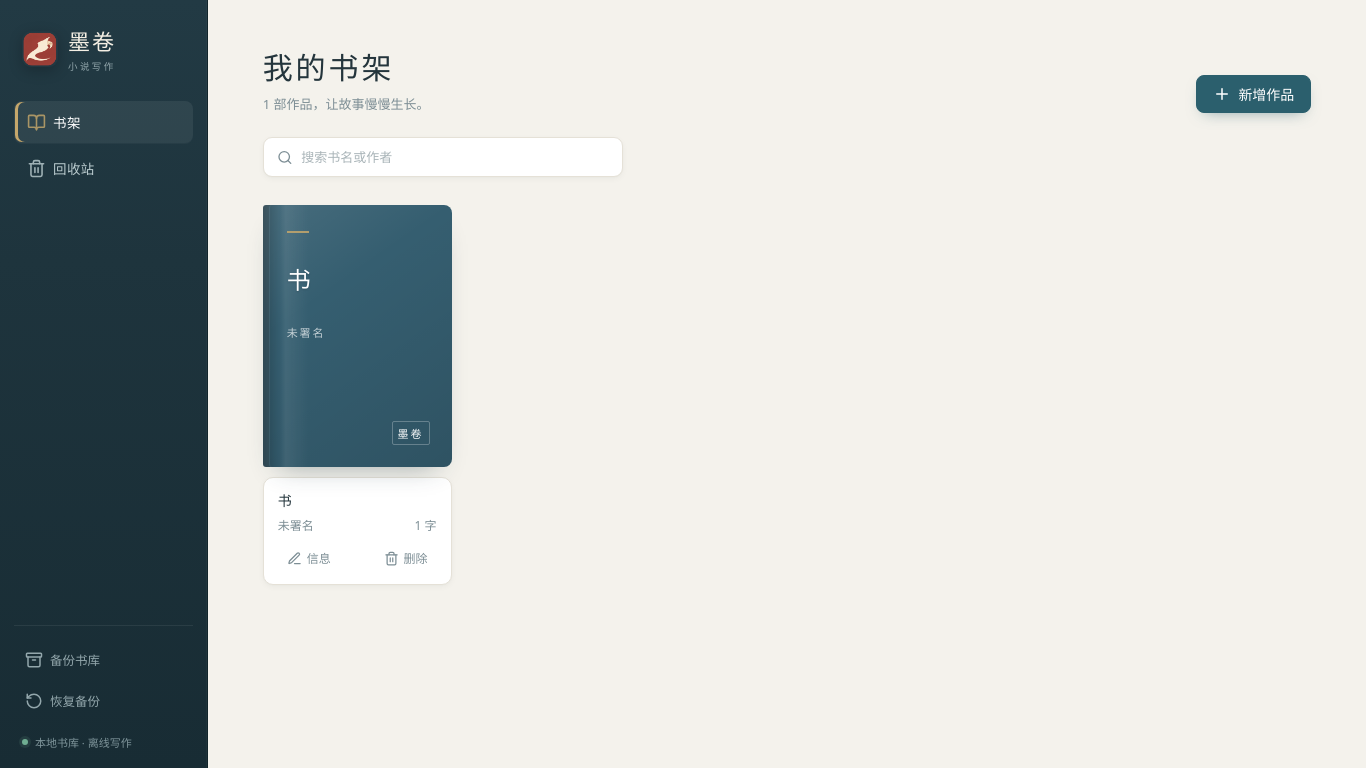
Test: retains manuscript and does not open task actions after failed save
Click the button with aria-label "打开 书" at (357, 336), box 263,205 -> 452,467
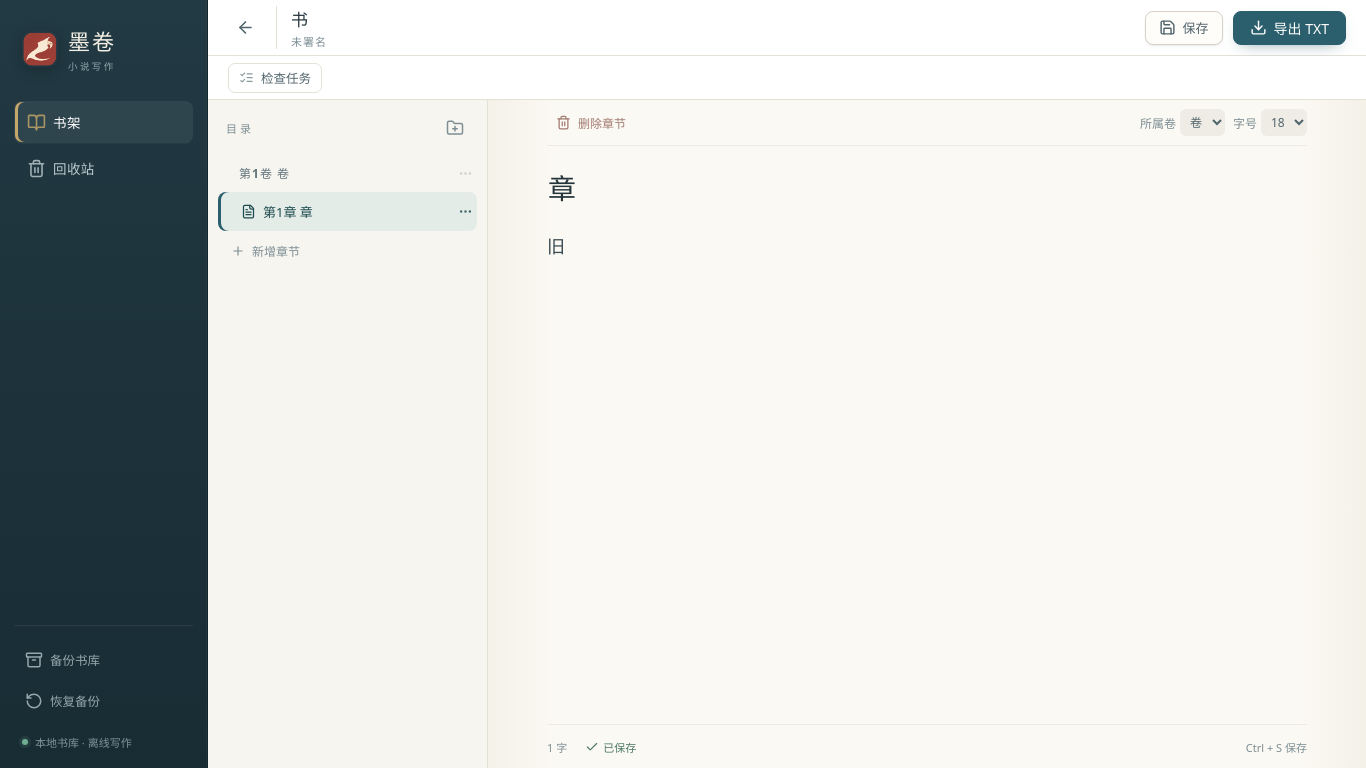
Replace the text in the text box named "章节正文" with "新" at (927, 472), box 547,220 -> 1307,724
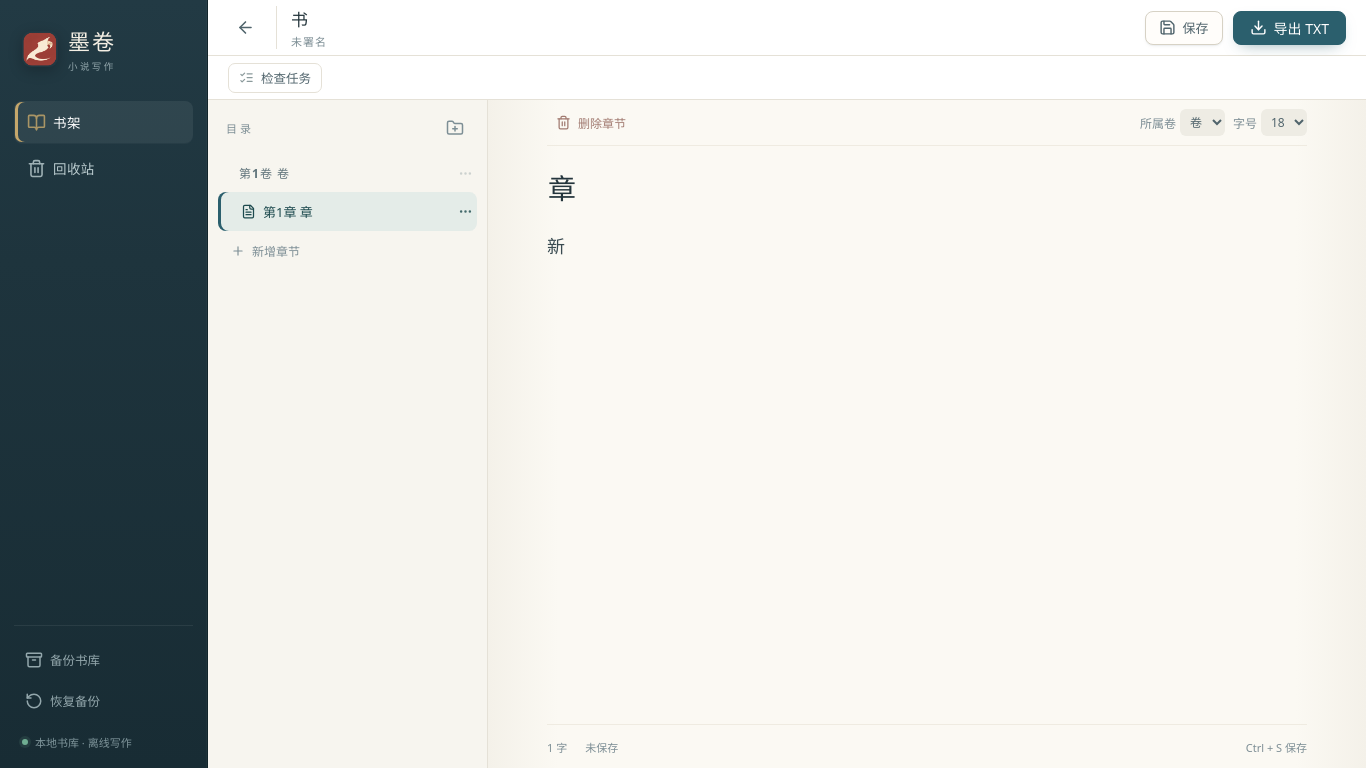
Click the button "检查任务" at (275, 78), box 228,62 -> 322,92
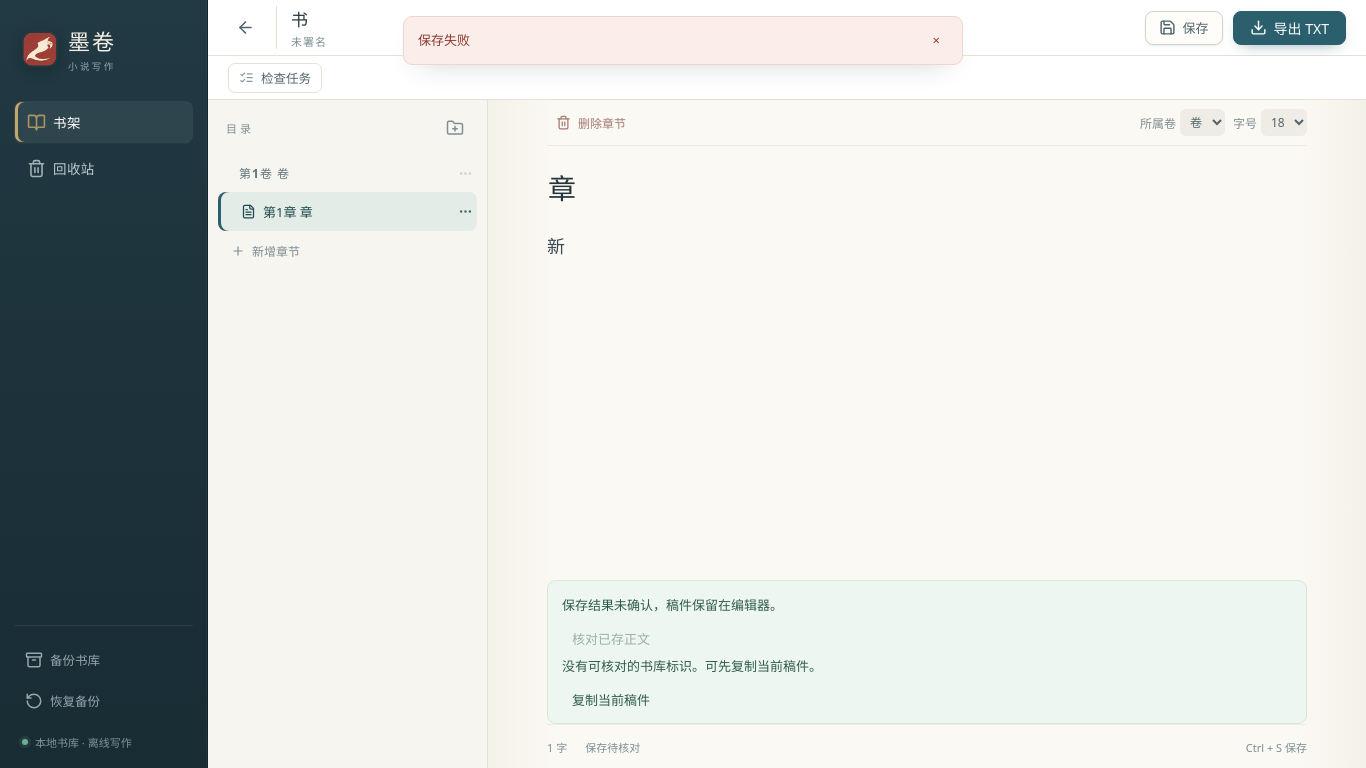
Check: the text "保存失败" is shown, box 418,31 -> 470,49
